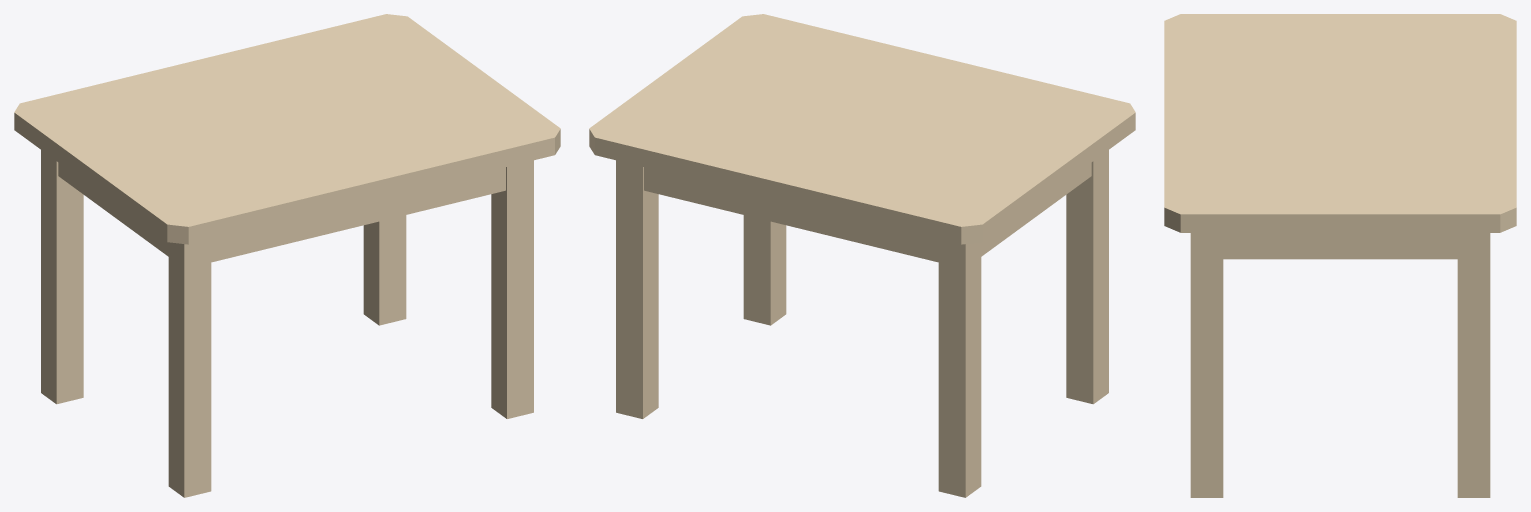
The model's file is SM_LPI_Kids_Table_01.fbx.
The picture shows the model from 3 angles, left to right: view 1: azimuth 30°, elevation 25°; view 2: azimuth 150°, elevation 25°; view 3: azimuth 270°, elevation 25°; orthographic projection. The views are drawn at different scales.
Parts seen in each view (by area): view 1: SM_LPI_Kids_Table_01; view 2: SM_LPI_Kids_Table_01; view 3: SM_LPI_Kids_Table_01.
Boxes of the visible parts, x1=… form: SM_LPI_Kids_Table_01: x1=14, y1=14, x2=560, y2=497; SM_LPI_Kids_Table_01: x1=589, y1=14, x2=1135, y2=497; SM_LPI_Kids_Table_01: x1=1164, y1=14, x2=1516, y2=497.
Size of the model in its own units: 0.7 by 0.48 by 0.52.
